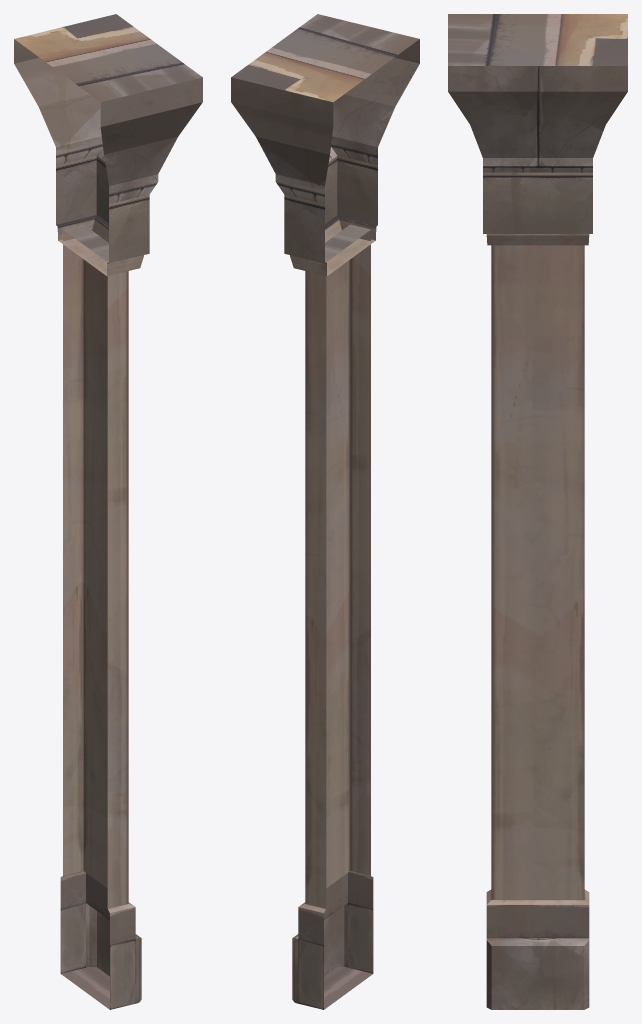
The model's file is WallPillar.fbx.
3 renders of one model, left to right at view 1: azimuth 30°, elevation 25°; view 2: azimuth 150°, elevation 25°; view 3: azimuth 270°, elevation 25°, orthographic. The views are drawn at different scales.
Parts seen in each view (by area): view 1: WallPillar; view 2: WallPillar; view 3: WallPillar.
Part boxes in pixels (x1=…): WallPillar: x1=14, y1=14, x2=202, y2=1009; WallPillar: x1=231, y1=14, x2=419, y2=1009; WallPillar: x1=448, y1=14, x2=627, y2=1009.
Size of the model in its own units: 215 by 1866 by 316.
